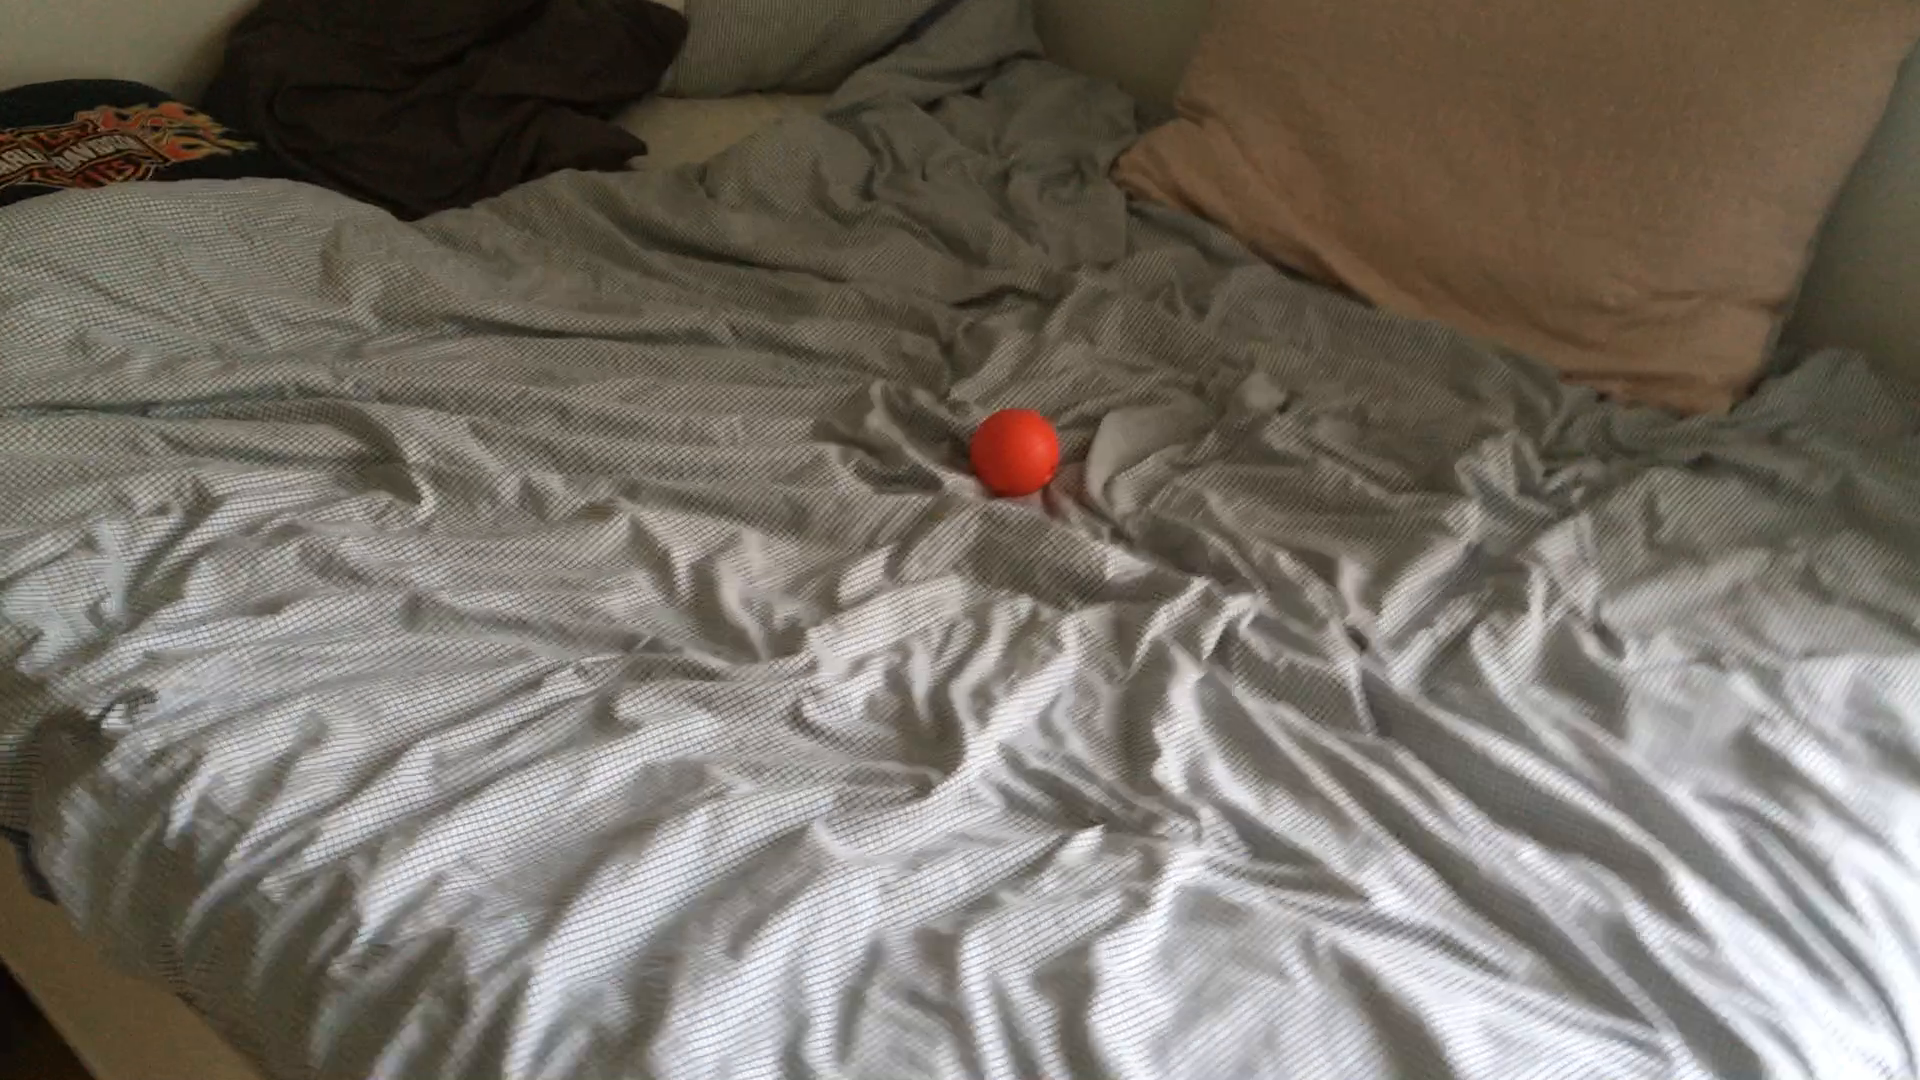Ball: (965, 407, 1063, 497)
